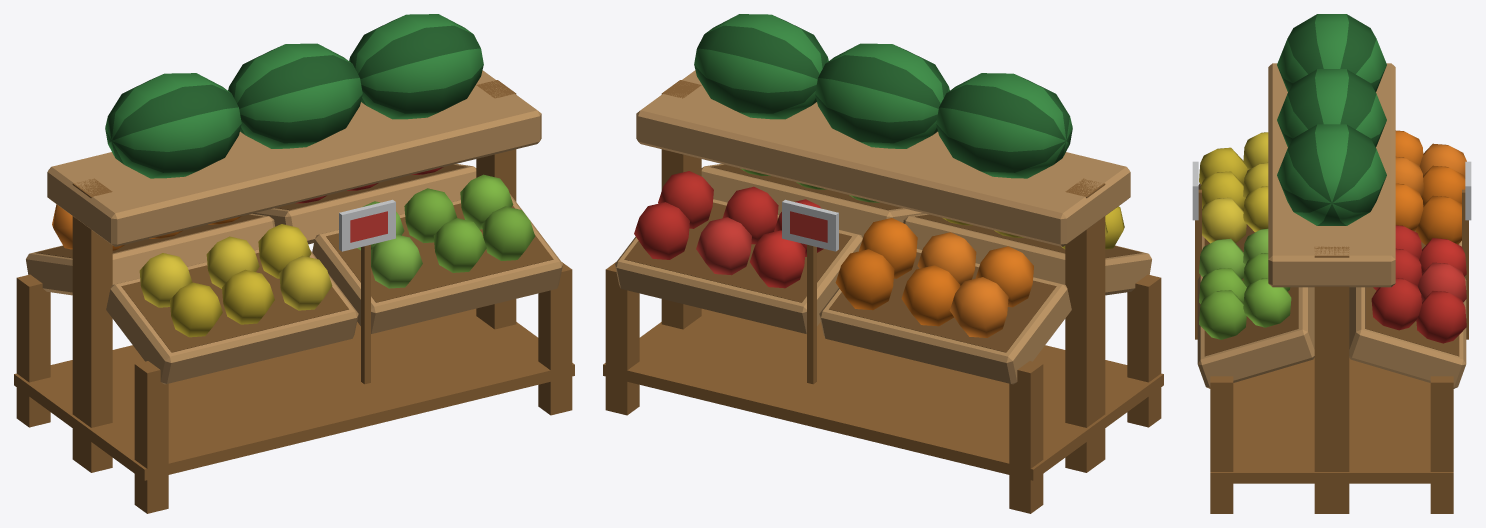
File: market-prop2.glb
The picture shows the model from 3 angles, left to right: view 1: azimuth 30°, elevation 25°; view 2: azimuth 150°, elevation 25°; view 3: azimuth 270°, elevation 25°; orthographic projection. The views are drawn at different scales.
Visible parts, largest first — view 1: market-prop2; view 2: market-prop2; view 3: market-prop2.
Boxes of the visible parts, x1=… form: market-prop2: x1=14, y1=14, x2=574, y2=513; market-prop2: x1=603, y1=14, x2=1163, y2=513; market-prop2: x1=1192, y1=14, x2=1471, y2=513.
Size of the model in its own units: 1.6 by 1.29 by 0.963.
